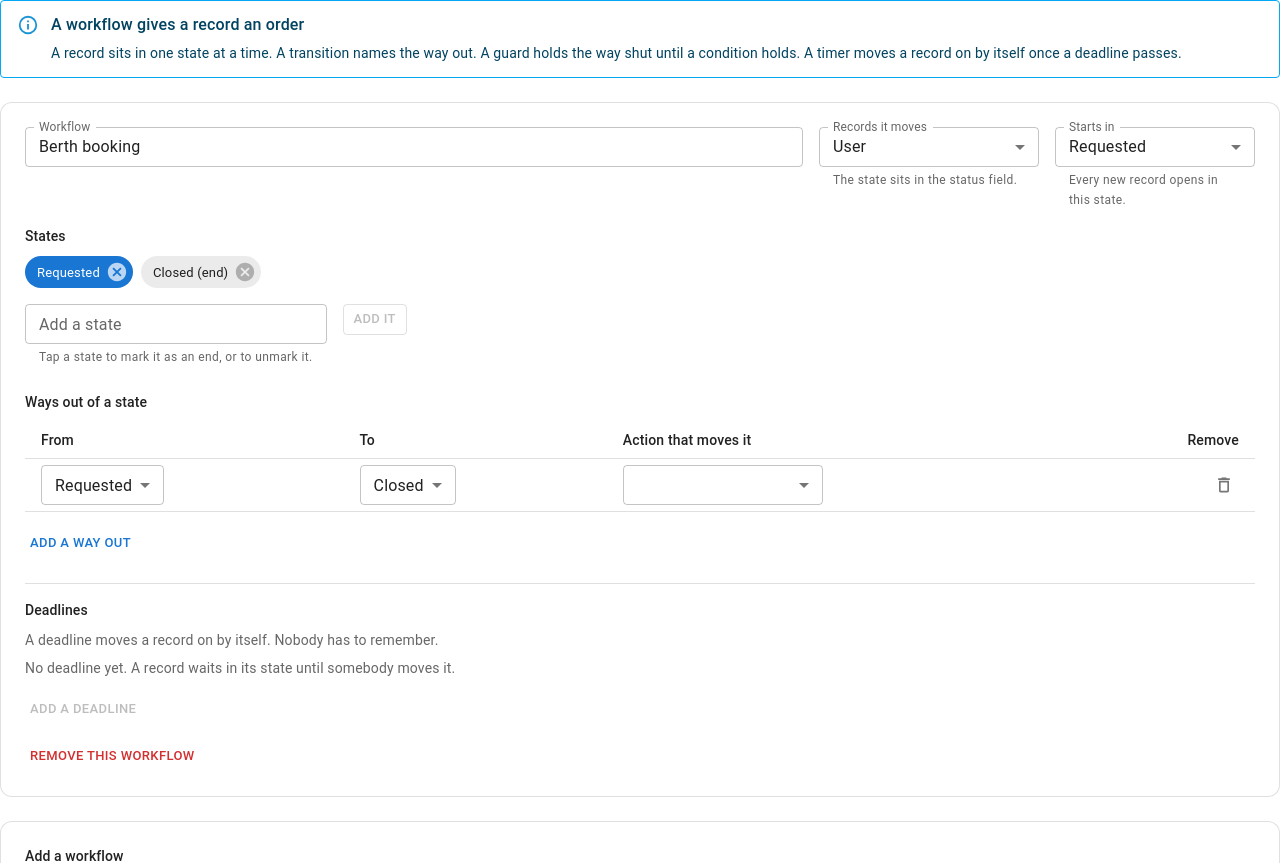
Test case: the workflow editor over a held workflow › removes a way out and reports the stranded states
Click the button named "Remove the way from requested to closed" at {"x": 1224, "y": 485}, box 1209,470 -> 1239,500
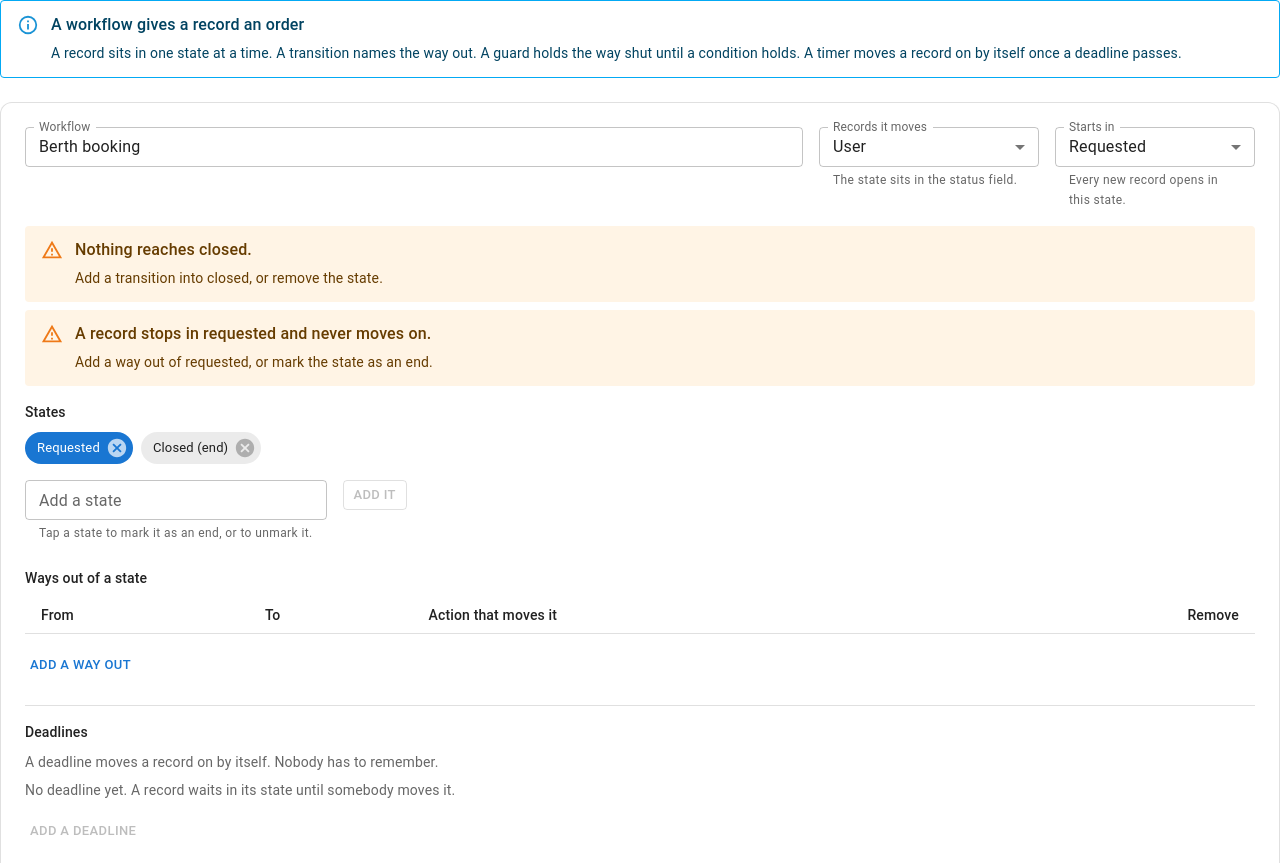
Expected: the text "Nothing reaches closed." is shown, 75,240 -> 252,259
Expected: the text "A record stops in requested and never moves on." is shown, 75,322 -> 433,346
